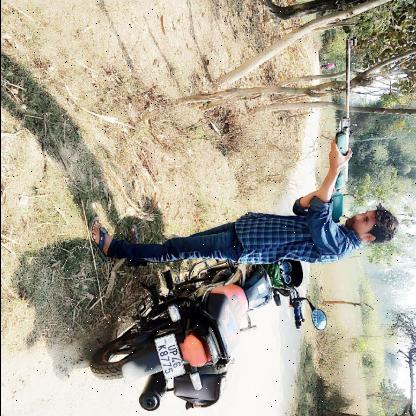rifle: (320, 35, 358, 233)
